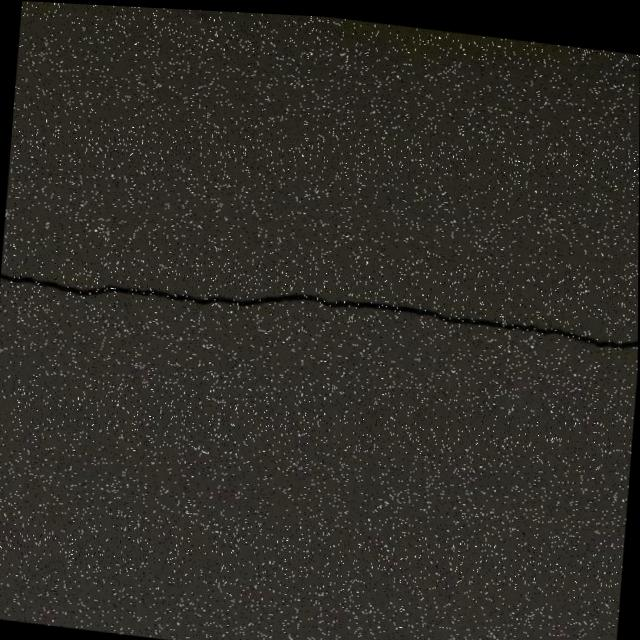Crack: (0, 238, 639, 376)
